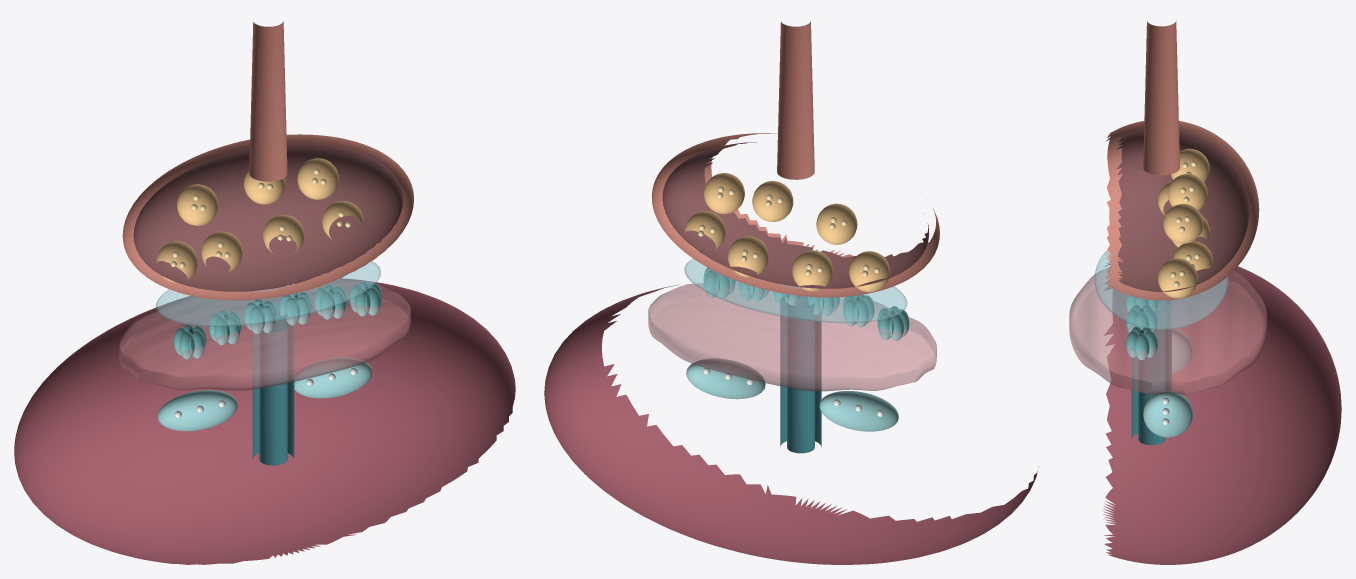
The model's file is neuromuscular_junction.glb.
The picture shows the model from 3 angles, left to right: view 1: azimuth 30°, elevation 25°; view 2: azimuth 150°, elevation 25°; view 3: azimuth 270°, elevation 25°; orthographic projection. The views are drawn at different scales.
Visible parts, largest first — view 1: MuscleFiber, TerminalInterior, Sarcolemma, Terminal, SynapticCleft, TTubule, Axon, SR_Cisterna_L, SR_Cisterna_R, Vesicle_05, Vesicle_07, Vesicle_02 (+10 smaller); view 2: MuscleFiber, Sarcolemma, TerminalInterior, TTubule, SynapticCleft, Axon, Terminal, SR_Cisterna_L, SR_Cisterna_R, Vesicle_05, Vesicle_06, Vesicle_07 (+7 smaller); view 3: MuscleFiber, Sarcolemma, TerminalInterior, Axon, Terminal, SynapticCleft, TTubule, SR_Cisterna_R, Vesicle_07, Vesicle_04, Vesicle_06, Receptor_06 (+4 smaller).
Part boxes in pixels (box(x1,y1,x2,y2)): MuscleFiber: box(14, 278, 515, 564); TerminalInterior: box(133, 143, 403, 291); Sarcolemma: box(119, 279, 410, 390); Terminal: box(122, 134, 413, 300); SynapticCleft: box(155, 261, 380, 326); TTubule: box(252, 303, 294, 465); Axon: box(249, 21, 287, 181); SR_Cisterna_L: box(157, 390, 237, 431); SR_Cisterna_R: box(294, 357, 372, 398); Vesicle_05: box(177, 184, 218, 225); Vesicle_07: box(297, 158, 338, 199); Vesicle_02: box(201, 231, 242, 272); MuscleFiber: box(544, 284, 1039, 564); Sarcolemma: box(648, 281, 936, 391); TerminalInterior: box(662, 142, 929, 288); TTubule: box(780, 294, 821, 453); SynapticCleft: box(684, 259, 907, 323); Axon: box(777, 21, 814, 179); Terminal: box(651, 133, 939, 297); SR_Cisterna_L: box(819, 391, 898, 431); SR_Cisterna_R: box(686, 358, 765, 399); Vesicle_05: box(816, 203, 857, 244); Vesicle_06: box(752, 181, 793, 221); Vesicle_07: box(704, 173, 744, 214); MuscleFiber: box(1103, 262, 1341, 564); Sarcolemma: box(1069, 267, 1266, 394); TerminalInterior: box(1116, 129, 1249, 291); Axon: box(1143, 21, 1179, 175); Terminal: box(1105, 121, 1259, 300); SynapticCleft: box(1094, 250, 1228, 329); TTubule: box(1131, 300, 1171, 445); SR_Cisterna_R: box(1143, 391, 1192, 437); Vesicle_07: box(1163, 203, 1203, 243); Vesicle_04: box(1158, 258, 1197, 298); Vesicle_06: box(1167, 173, 1207, 210); Receptor_06: box(1126, 326, 1157, 360).
Size of the model in its own units: 9.6 by 10.16 by 5.02.
